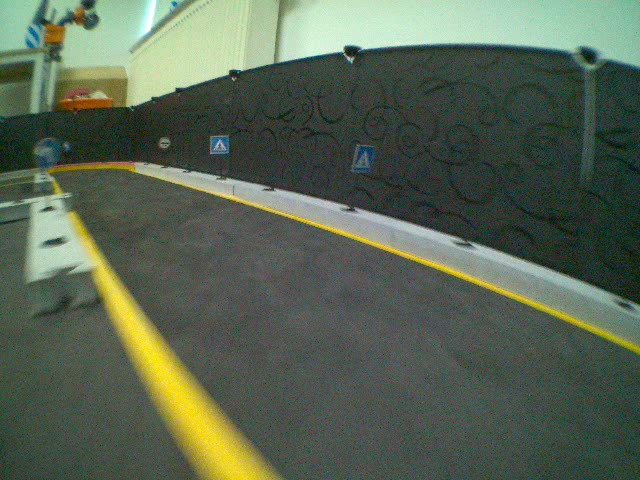Check: (158, 135, 172, 151)
crossing: (349, 144, 375, 173), (209, 134, 230, 155)
